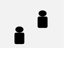human: (36, 8, 49, 28), (13, 25, 26, 44)
